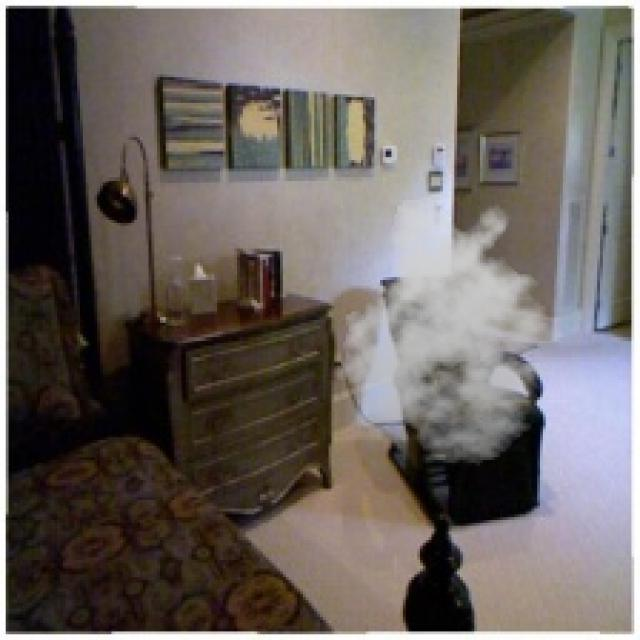Smoke: (328, 194, 574, 466)
